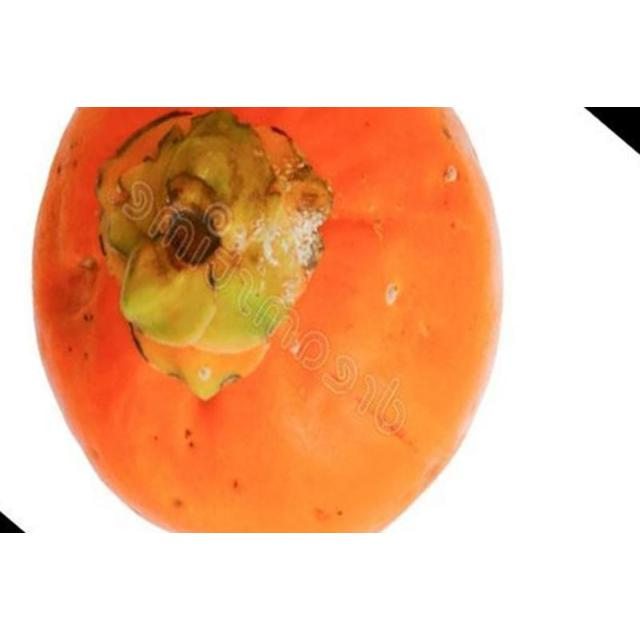good: (30, 107, 508, 533)
